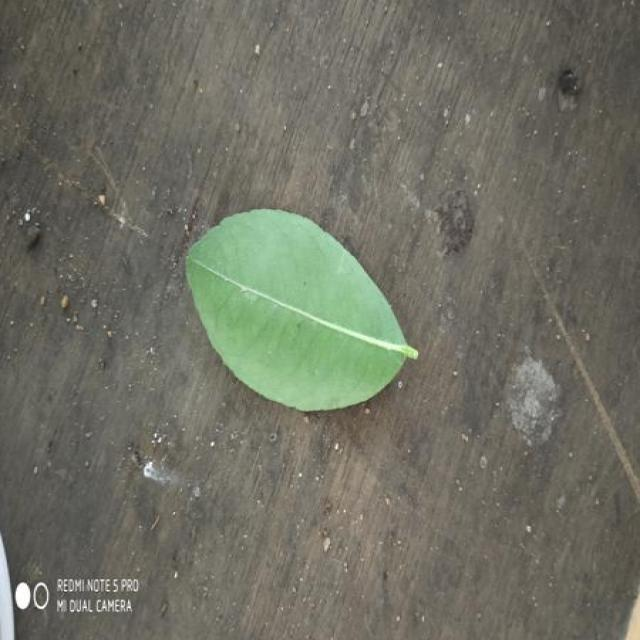citron lime: (187, 209, 418, 411)
